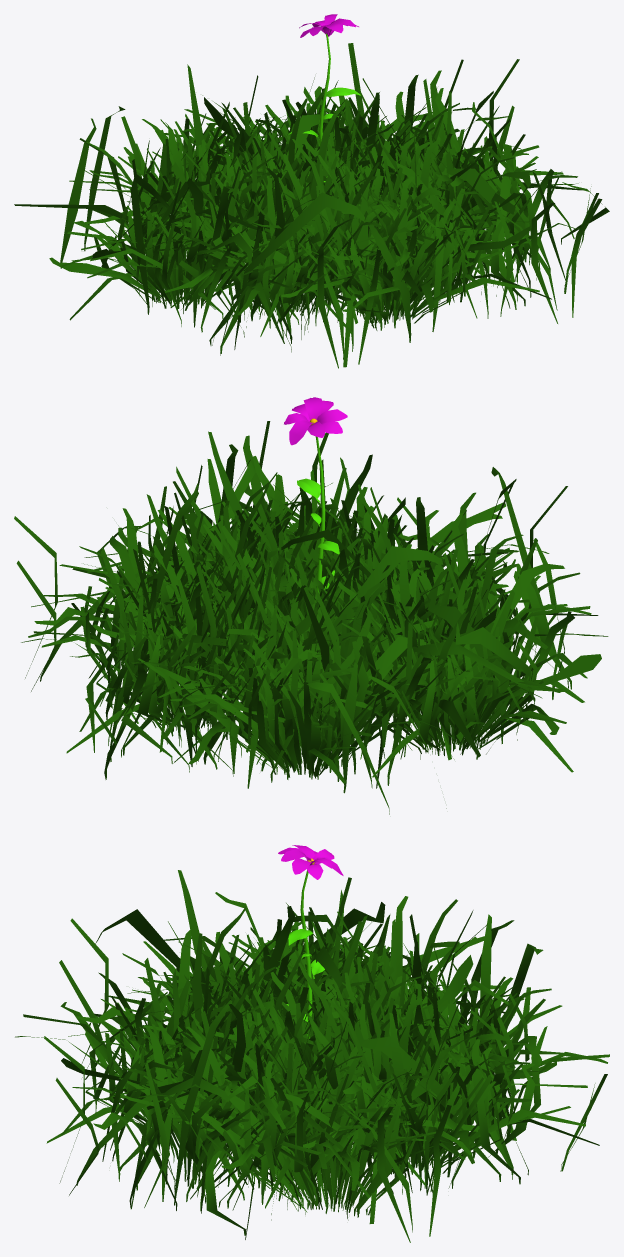
File: Player_Movement2.fbx
3 views of the same model, one above another, from view 1: azimuth 30°, elevation 25°; view 2: azimuth 150°, elevation 25°; view 3: azimuth 270°, elevation 25° (orthographic). The views are drawn at different scales.
Visible parts, largest first — view 1: Player; view 2: Player; view 3: Player.
Boxes of the visible parts, box(x1,y1,x2,y2) form: Player: box(14, 14, 609, 368); Player: box(14, 397, 608, 814); Player: box(15, 845, 609, 1242).
Bounding box in the file's own units: 165 × 86.38 × 163.
